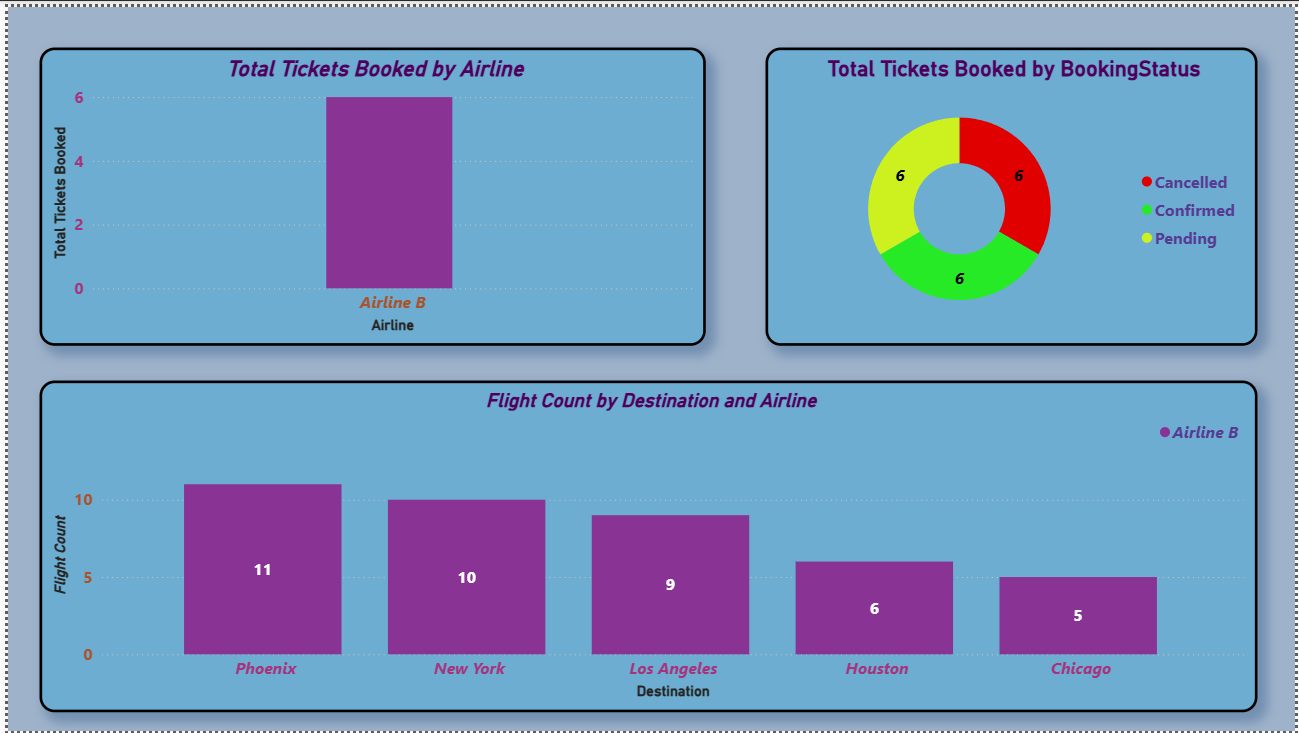

The page's visual inventory and layout, read from the dashboard file:
{"tool":"powerbi","page":{"name":"Airline B","canvas":[1280,720],"ordinal":3},"visuals":[{"type":"columnChart","fields":{"Category":["flight_information.Airline"],"Y":["Measure.Total Tickets Booked"]},"box":[31.3,40.3,662.3,296.9],"z":0},{"type":"donutChart","fields":{"Category":["ticket_information.BookingStatus"],"Y":["Measure.Total Tickets Booked"]},"box":[753.3,40.3,489.3,296.9],"z":1000},{"type":"columnChart","fields":{"Category":["flight_information.Destination"],"Y":["Measure.Flight Count"],"Series":["flight_information.Airline"]},"box":[31.3,371.4,1211.3,329.7],"z":2000}]}

Visuals, with their boxes in screenshot pixels (x1, y1, x2, y2), scaled from the page's 1280x720 canvas onto the 1299x733 screenshot:
columnChart - flight_information.Airline x Measure.Total Tickets Booked: <box>32,41,704,343</box>
donutChart - ticket_information.BookingStatus x Measure.Total Tickets Booked: <box>764,41,1261,343</box>
columnChart - flight_information.Destination x Measure.Flight Count: <box>32,378,1261,714</box>
